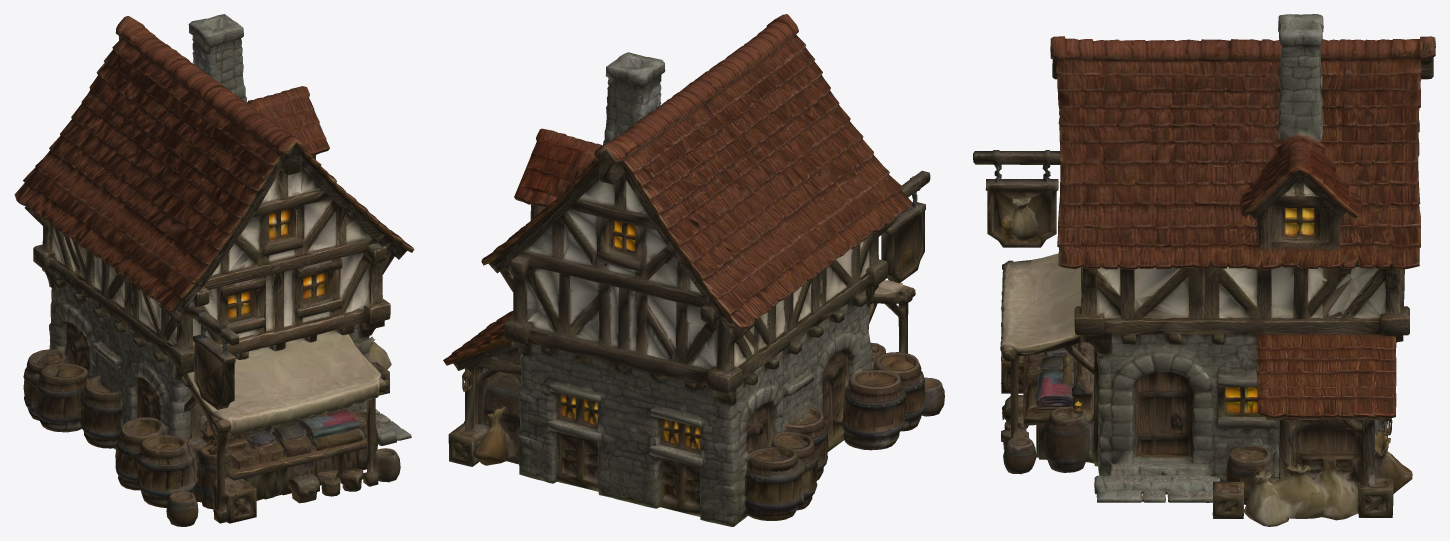
File: Timbered_Market_House.glb
The picture shows the model from 3 angles, left to right: view 1: azimuth 30°, elevation 25°; view 2: azimuth 150°, elevation 25°; view 3: azimuth 270°, elevation 25°; orthographic projection. The views are drawn at different scales.
Visible parts, largest first — view 1: Timbered_Market_House; view 2: Timbered_Market_House; view 3: Timbered_Market_House.
Part boxes in pixels (x1=…): Timbered_Market_House: x1=14, y1=14, x2=414, y2=526; Timbered_Market_House: x1=443, y1=14, x2=944, y2=526; Timbered_Market_House: x1=973, y1=14, x2=1435, y2=526.
Bounding box in the file's own units: 1.77 × 1.9 × 1.89.
1 material, 1 textured.
